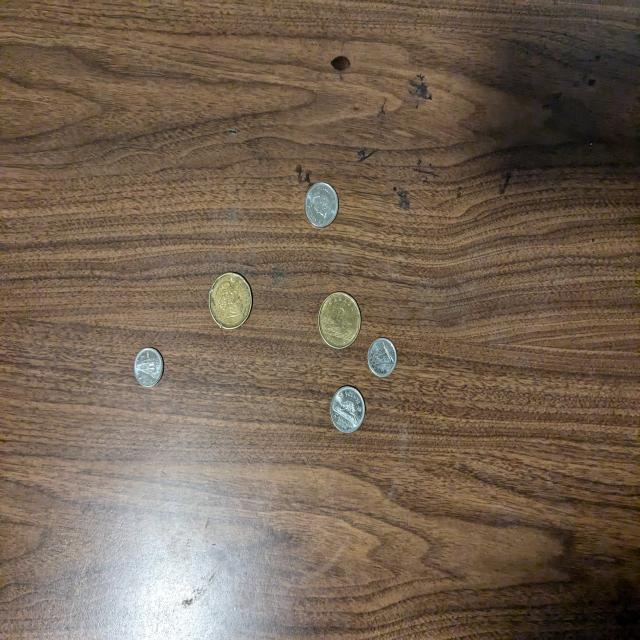dime: (134, 347, 164, 390), (368, 338, 398, 378)
loonie: (208, 270, 254, 330), (318, 292, 362, 349)
nickel: (329, 386, 366, 435), (306, 183, 340, 228)
